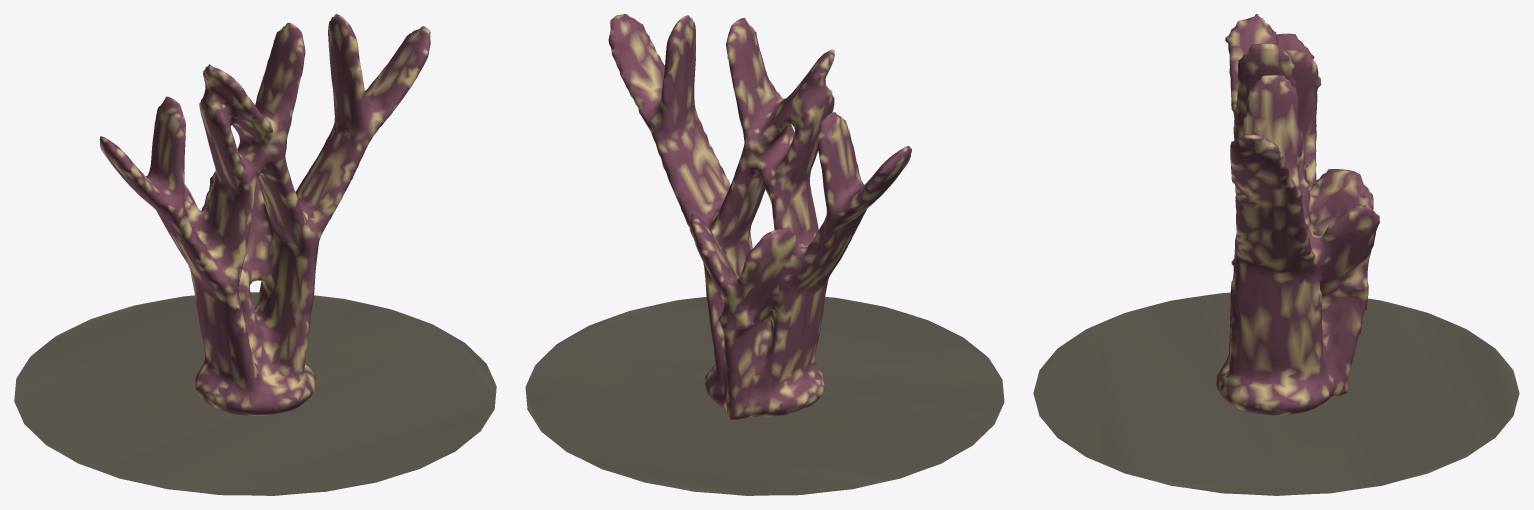
Rendered from ConstellariaFlorida.fbx.
3 views of the same model, side by side, from view 1: azimuth 30°, elevation 25°; view 2: azimuth 150°, elevation 25°; view 3: azimuth 270°, elevation 25° (orthographic).
Visible parts, largest first — view 1: ConstellariaFlorida; view 2: ConstellariaFlorida; view 3: ConstellariaFlorida.
Boxes of the visible parts, box(x1,y1,x2,y2) form: ConstellariaFlorida: box(14, 14, 496, 495); ConstellariaFlorida: box(525, 14, 1004, 495); ConstellariaFlorida: box(1033, 14, 1519, 495).
Size of the model in its own units: 1.2 by 1.02 by 1.2.
